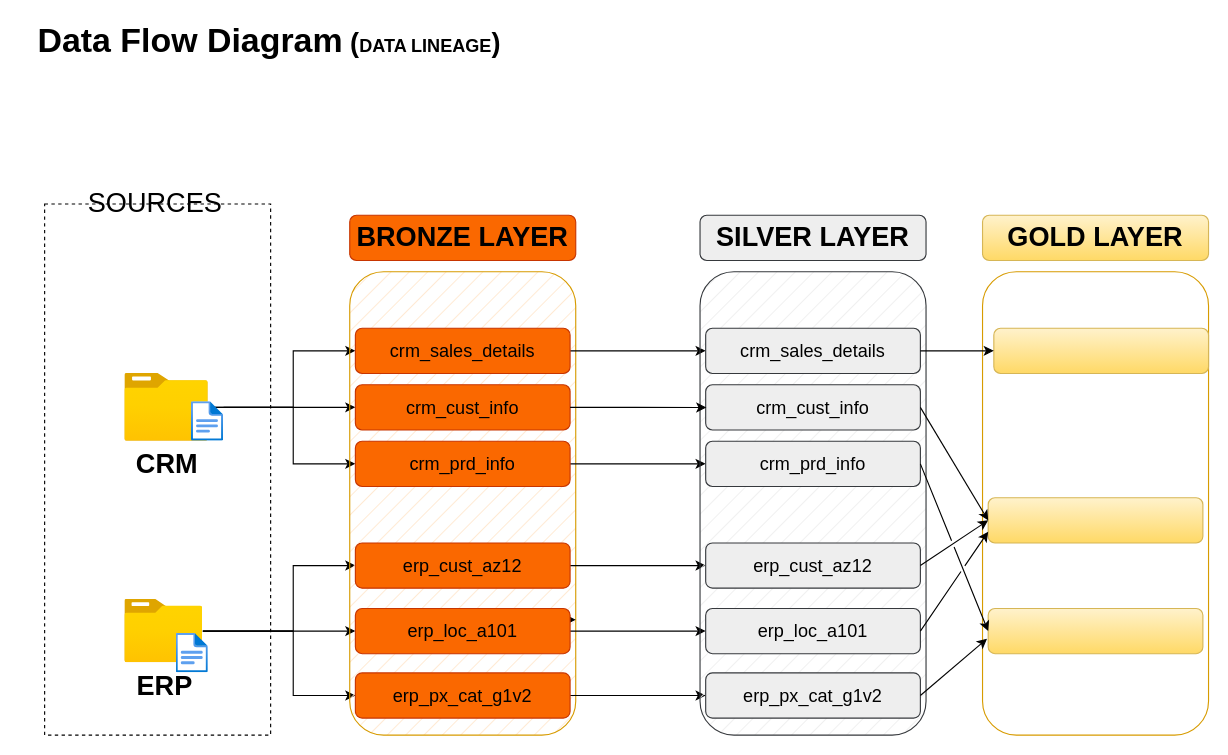
Image size: 1228x755. Some labels were removed from this diagram. The centre of each missing label's shape, as x and y in pixels:
"dim_products" belongs at point (1095, 630).
"dim_sales" belongs at point (1095, 520).
"fact_sale" belongs at point (1101, 350).
